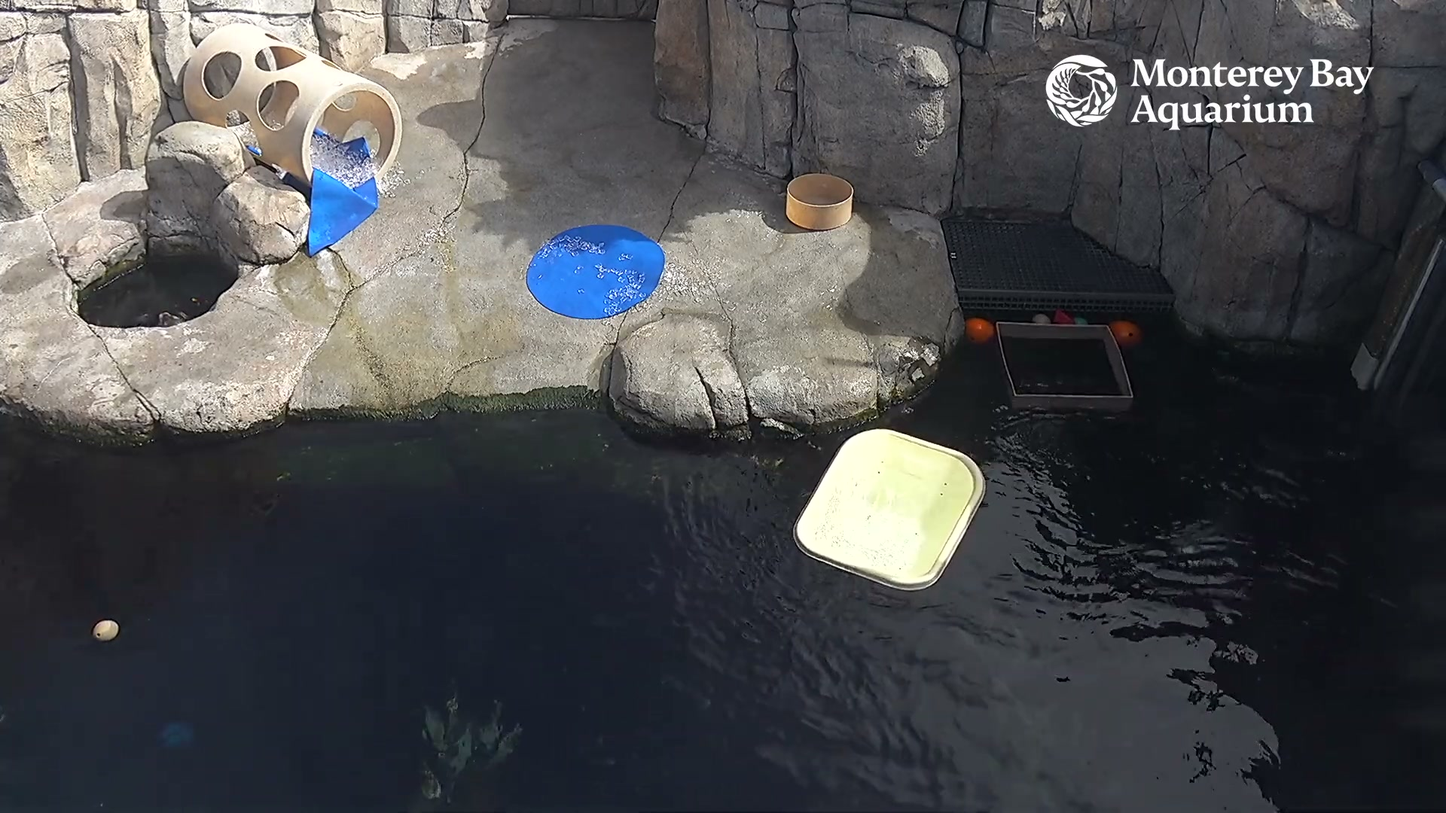Southern Sea Otter: (151, 303, 192, 335)
